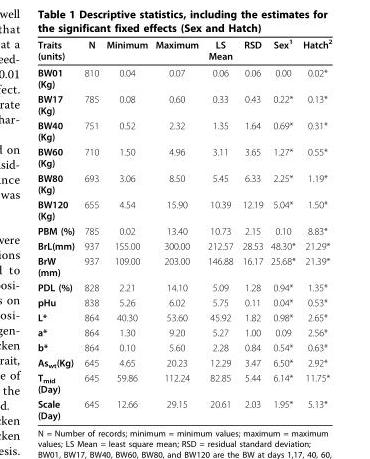table: (36, 37, 331, 420)
table column: (150, 37, 202, 420), (101, 37, 150, 420), (36, 37, 78, 420), (202, 37, 237, 420), (298, 37, 331, 420), (266, 37, 298, 420), (237, 37, 266, 420), (78, 37, 101, 420)
table column header: (36, 37, 331, 63)
table row: (36, 63, 331, 91), (36, 143, 331, 170), (36, 37, 331, 63), (36, 91, 331, 117), (36, 117, 331, 143), (36, 170, 331, 196), (36, 196, 331, 222), (36, 253, 331, 279), (36, 370, 331, 396), (36, 396, 331, 420), (36, 237, 331, 253), (36, 354, 331, 370), (36, 222, 331, 237), (36, 279, 331, 294), (36, 294, 331, 309), (36, 309, 331, 324), (36, 324, 331, 339), (36, 339, 331, 354)
